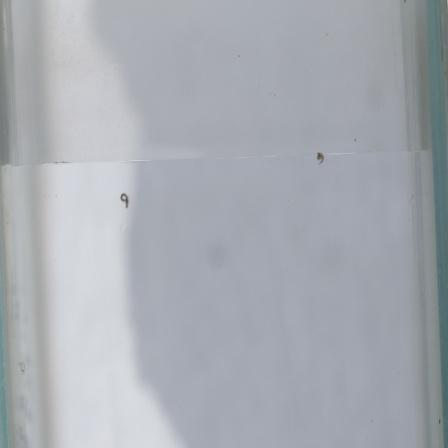Jentik-Nyamuk: (119, 189, 131, 211), (315, 151, 327, 165)
